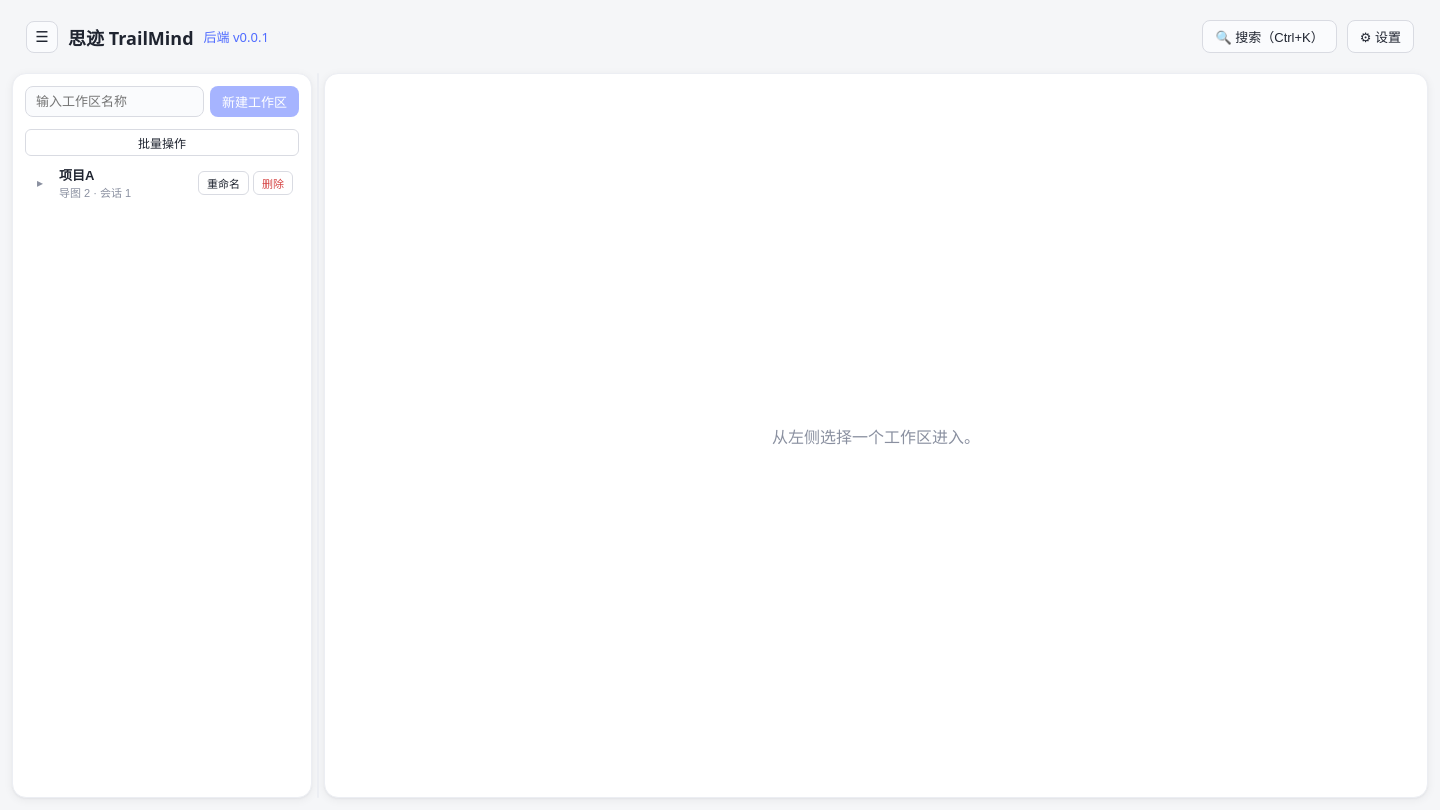
Test: App 首页 › 搜索无结果时「按标签浏览」入口打开右侧标签云并闪烁（03 §7.3）
Expected: the button "项目A 导图 2 · 会话 1" is shown, [53,164,194,201]
打开搜索浮层并搜索无结果词
Click the button "🔍 搜索（Ctrl+K）": (1270, 36) [1202,20,1337,53]
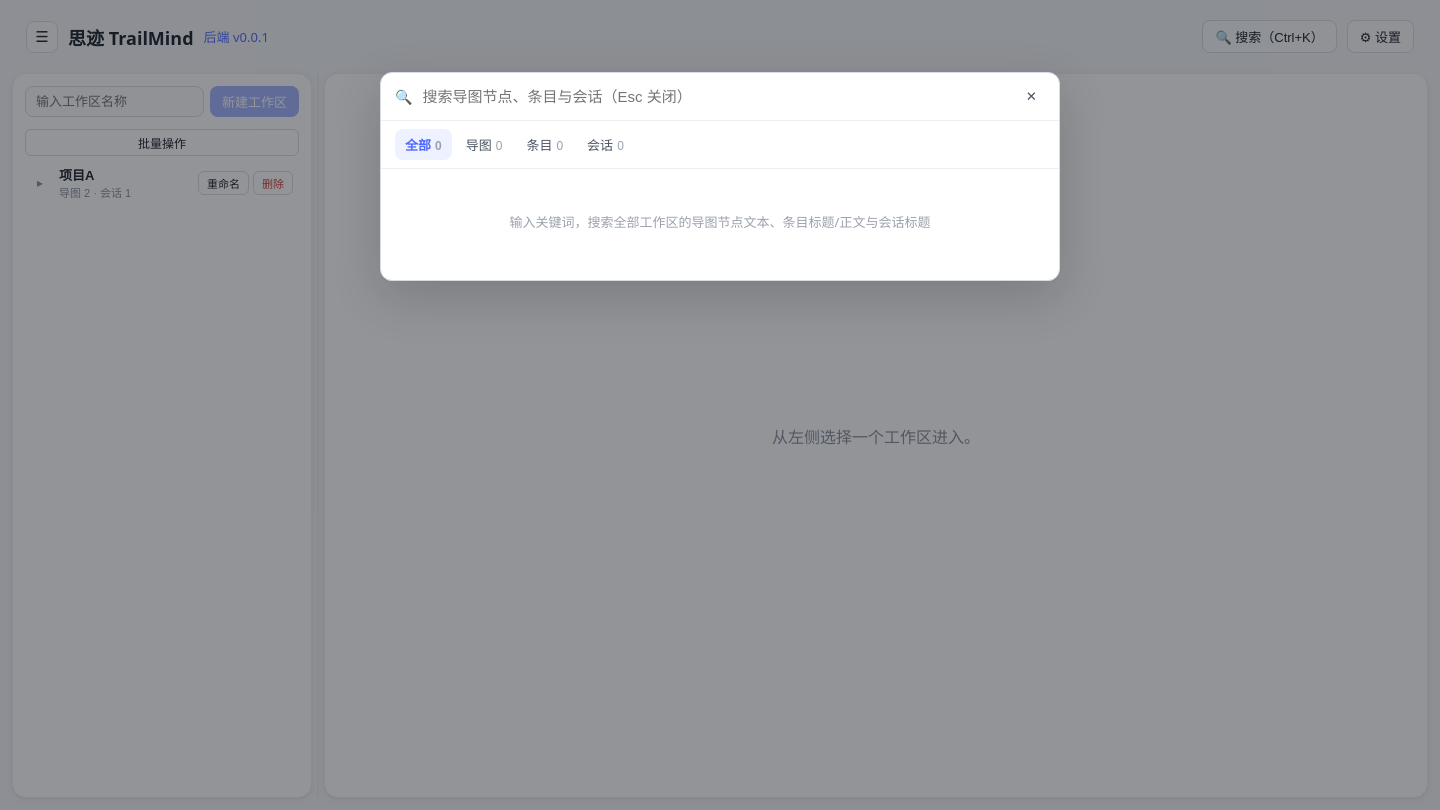
In the field named "搜索关键词": (715, 96) [420,87,1010,106], type "不存在词"
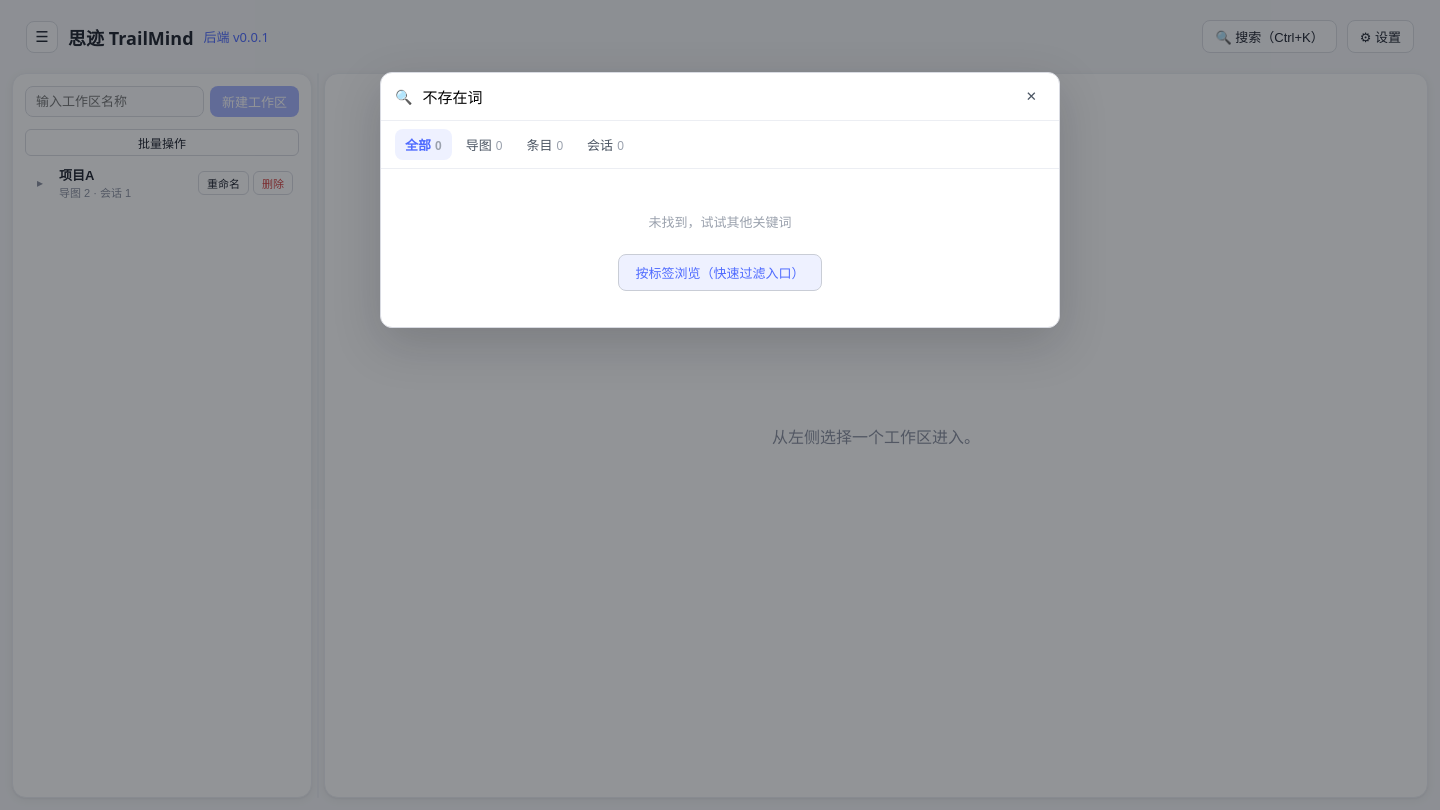
Click the button "按标签浏览（快速过滤入口）": (720, 272) [618,254,822,291]
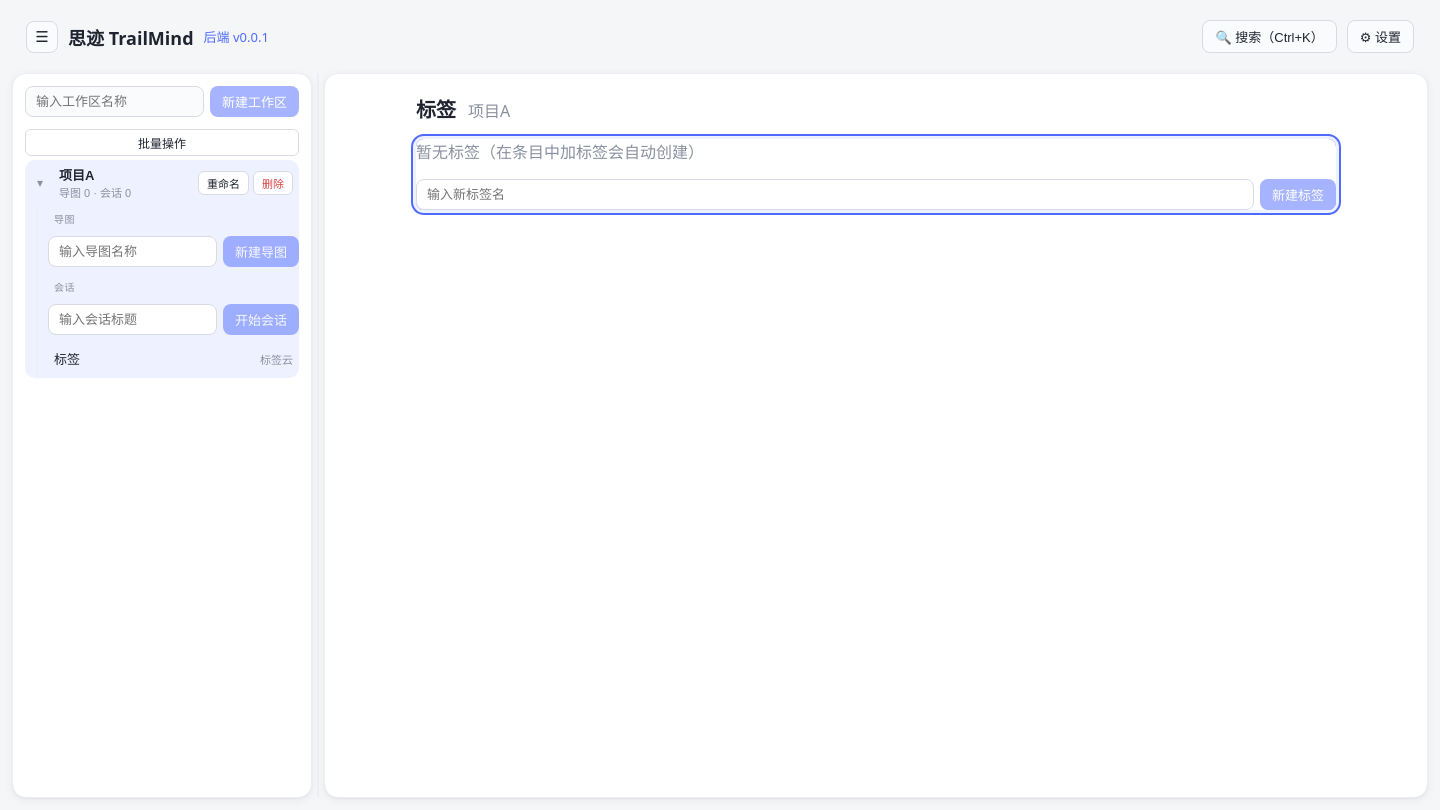
Result: the field labelled "搜索关键词" is gone
Result: the text "暂无标签（在条目中加标签会自动创建）" is shown at [416,141,704,163]
Result: the element with class "tag-section-flash" is shown at [416,139,1336,210]
